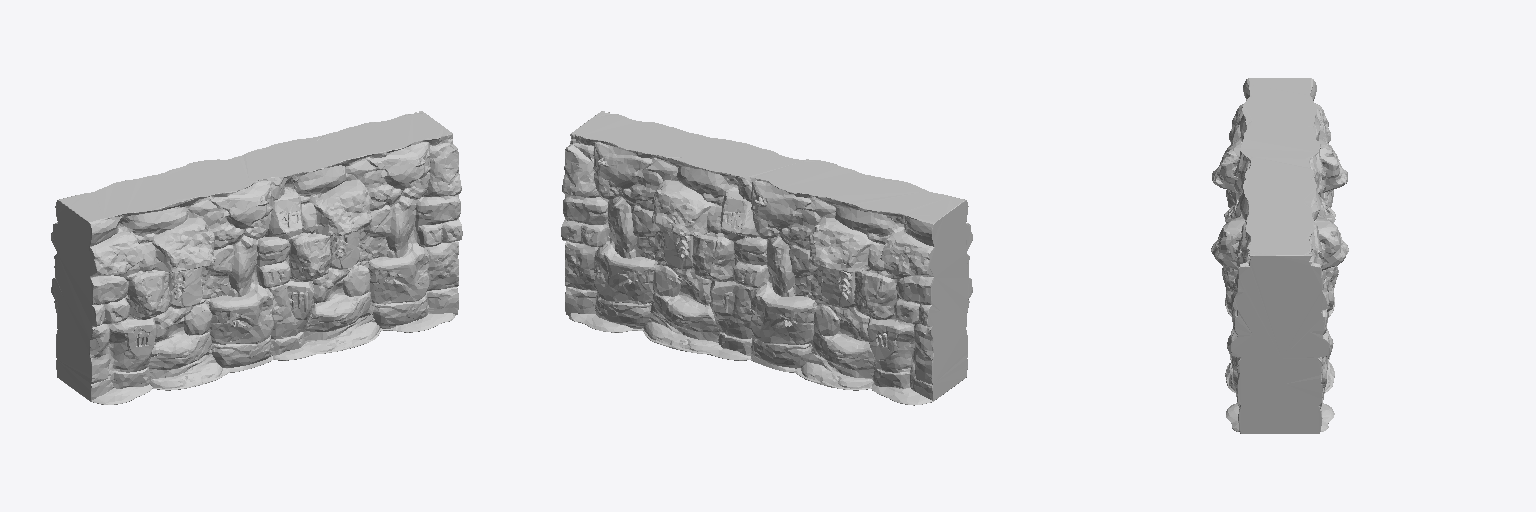
File: wall.obj
3 renders of one model, left to right at view 1: azimuth 30°, elevation 25°; view 2: azimuth 150°, elevation 25°; view 3: azimuth 270°, elevation 25°, orthographic.
Visible parts, largest first — view 1: Meshy_AI__[number redacted]_texture; view 2: Meshy_AI__[number redacted]_texture; view 3: Meshy_AI__[number redacted]_texture.
Part boxes in pixels (x1,y1,x2,y2): Meshy_AI__[number redacted]_texture: (51, 111, 462, 404); Meshy_AI__[number redacted]_texture: (561, 111, 972, 405); Meshy_AI__[number redacted]_texture: (1211, 78, 1348, 433).
Bounding box in the file's own units: 85.31 × 39.96 × 27.99.